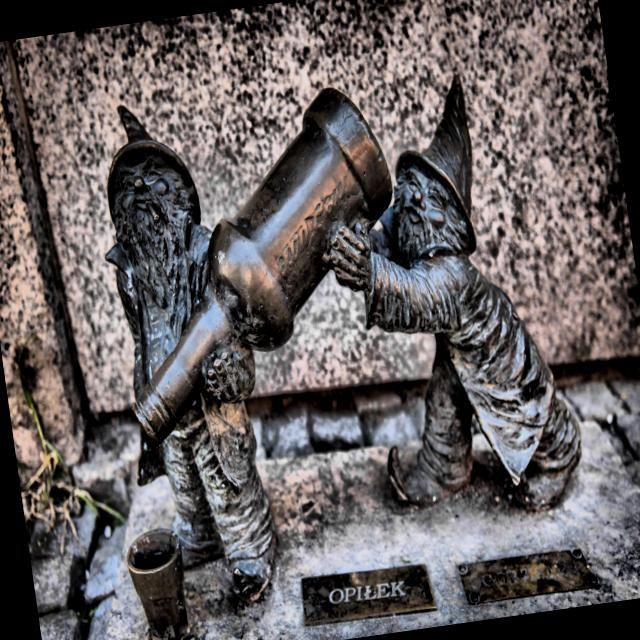Ogorzalek_i_Opilek: (108, 76, 581, 602)
